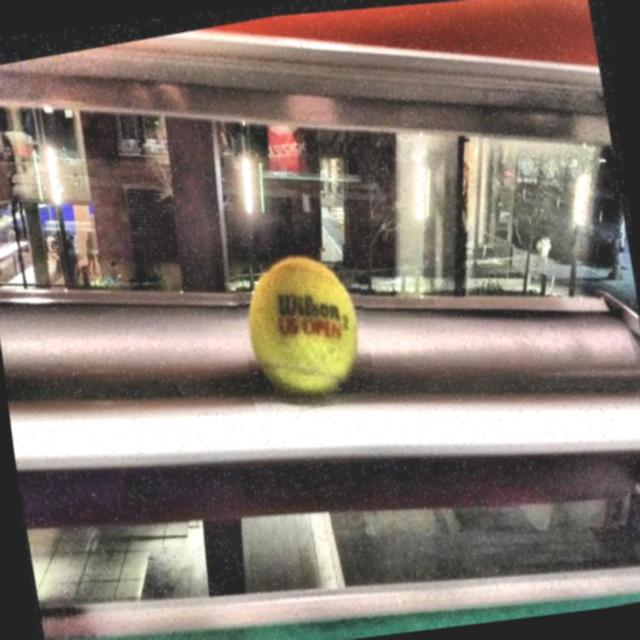tennis-ball: (230, 234, 382, 419)
